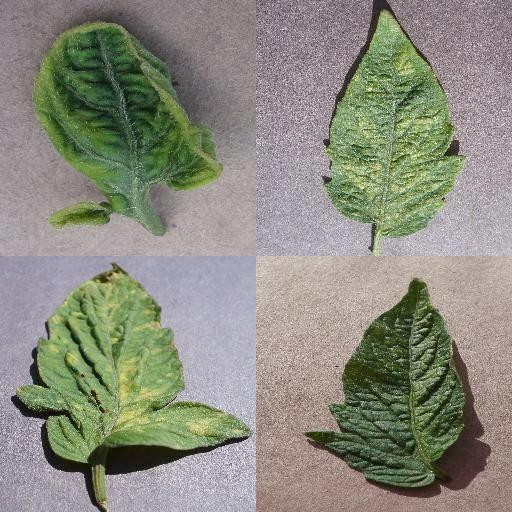Leaf Mold: (18, 261, 254, 463)
Spider Mites: (304, 276, 466, 488), (323, 9, 465, 237)
Yellow Leaf Curl Virus: (35, 21, 225, 191), (48, 202, 110, 230)
